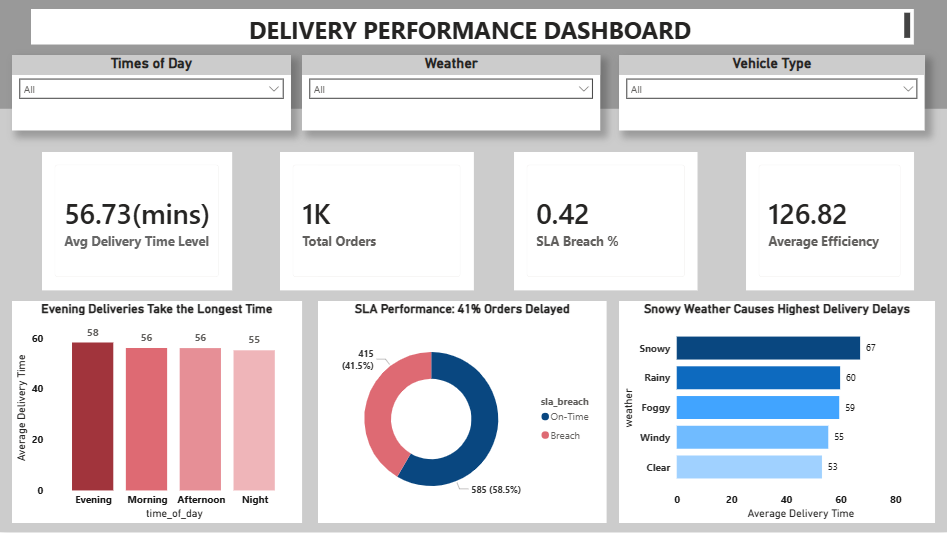

What the dashboard file says about the page in this screenshot:
{"tool":"powerbi","page":{"name":"Page 1","canvas":[1280,720],"ordinal":0},"visuals":[{"type":"cardVisual","fields":{"Data":["Food_Delivery_Times(F).Total Orders"]},"box":[378.3,206.7,261.7,186.7],"z":0},{"type":"cardVisual","fields":{"Data":["Food_Delivery_Times(F).SLA Breach %"]},"box":[695,206.7,248.3,186.7],"z":1000},{"type":"cardVisual","fields":{"Data":["Food_Delivery_Times(F).Average Efficiency"]},"box":[1008.3,206.7,226.7,186.7],"z":2000},{"type":"clusteredColumnChart","title":"Evening Deliveries Take  the Longest Time","fields":{"Category":["Food_Delivery_Times(F).time_of_day"],"Y":["Food_Delivery_Times(F).Average Delivery Time"]},"box":[16.7,408.3,391.7,300],"z":3000},{"type":"shape","box":[0,1.4,1280,147.1],"z":4000},{"type":"barChart","title":"Snowy Weather Causes Highest Delivery Delays","fields":{"Y":["Food_Delivery_Times(F).Average Delivery Time"],"Category":["Food_Delivery_Times(F).weather"]},"box":[836.7,408.3,426.7,300],"z":5000},{"type":"slicer","title":"Times of Day","fields":{"Values":["Food_Delivery_Times(F).time_of_day"]},"box":[16.7,75,376.7,101.7],"z":6000},{"type":"slicer","title":"Weather","fields":{"Values":["Food_Delivery_Times(F).weather"]},"box":[408.3,75,403.3,101.7],"z":7000},{"type":"slicer","title":"Vehicle Type","fields":{"Values":["Food_Delivery_Times(F).vehicle_type"]},"box":[836.7,75,413.3,101.7],"z":8000},{"type":"cardVisual","fields":{"Data":["Food_Delivery_Times(F).Avg Delivery Time Level"]},"box":[56.7,206.7,256.7,186.7],"z":9000},{"type":"donutChart","title":"SLA Performance: 41% Orders Delayed","fields":{"Category":["Food_Delivery_Times(F).sla_breach"],"Y":["Food_Delivery_Times(F).Total Orders"]},"box":[430,408.3,390,300],"z":10000},{"type":"textbox","box":[41.7,13.3,1193.3,48.3],"z":10001}]}

Visuals, with their boxes in screenshot pixels (x1, y1, x2, y2), scaled from the page's 1280x720 canvas onto the 947x533 screenshot:
cardVisual - Food_Delivery_Times(F).Total Orders: (x1=280, y1=153, x2=474, y2=291)
cardVisual - Food_Delivery_Times(F).SLA Breach %: (x1=514, y1=153, x2=698, y2=291)
cardVisual - Food_Delivery_Times(F).Average Efficiency: (x1=746, y1=153, x2=914, y2=291)
"Evening Deliveries Take  the Longest Time" clusteredColumnChart: (x1=12, y1=302, x2=302, y2=524)
shape: (x1=0, y1=1, x2=946, y2=110)
"Snowy Weather Causes Highest Delivery Delays" barChart: (x1=619, y1=302, x2=935, y2=524)
"Times of Day" slicer: (x1=12, y1=56, x2=291, y2=131)
"Weather" slicer: (x1=302, y1=56, x2=600, y2=131)
"Vehicle Type" slicer: (x1=619, y1=56, x2=925, y2=131)
cardVisual - Food_Delivery_Times(F).Avg Delivery Time Level: (x1=42, y1=153, x2=232, y2=291)
"SLA Performance: 41% Orders Delayed" donutChart: (x1=318, y1=302, x2=607, y2=524)
textbox: (x1=31, y1=10, x2=914, y2=46)
